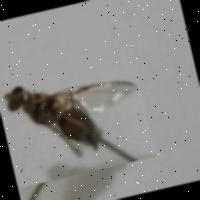Oriental-fruit-fly: (0, 50, 156, 187)
